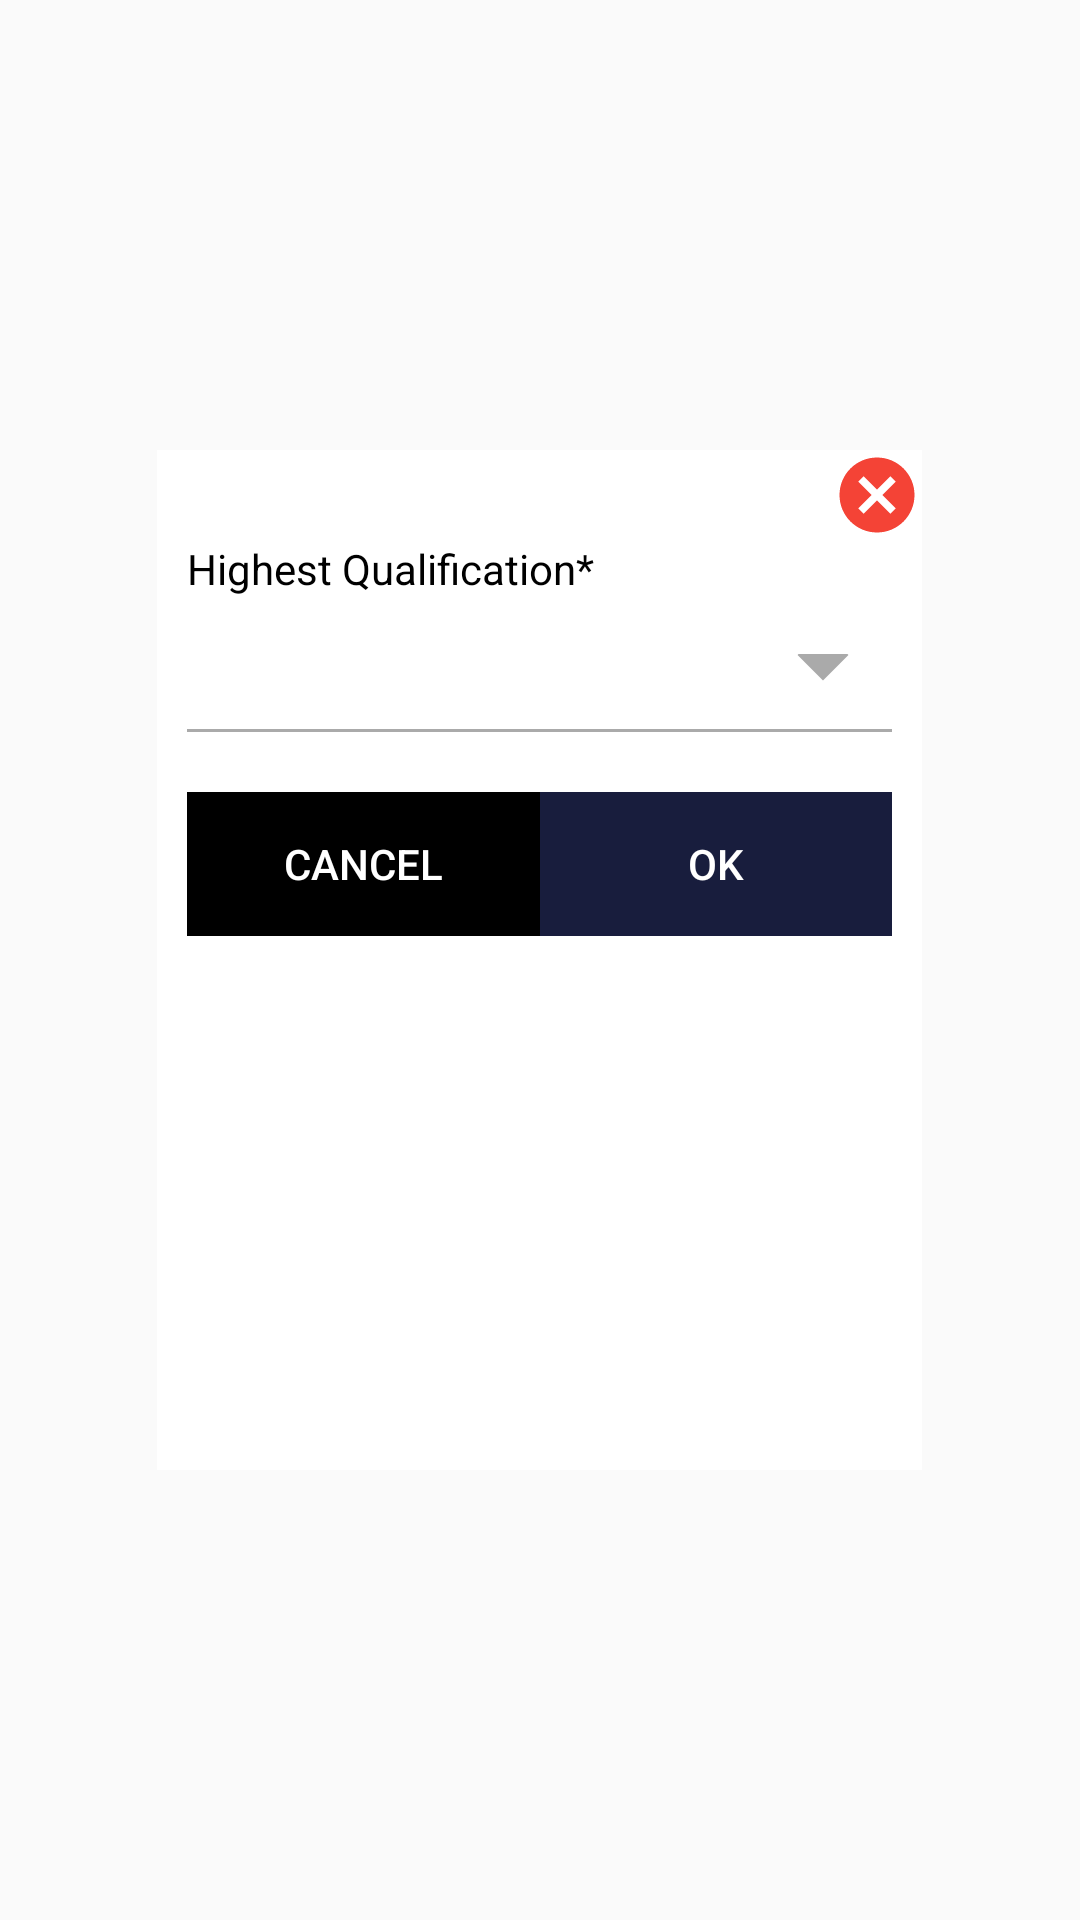

Locate icon controls on the screen. Image size 1080w x 1920h, boxes as rect(x1, y1, x2, y2).
cancel: rect(839, 457, 915, 533)
